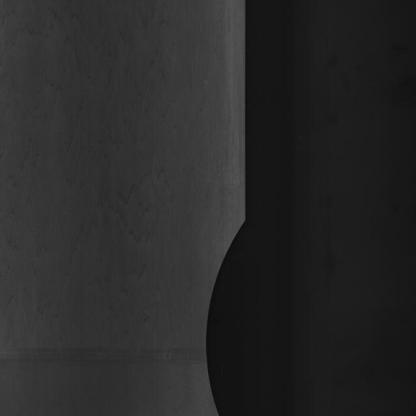crescent_gap: (198, 201, 254, 415)
welding_line: (0, 336, 220, 364)
